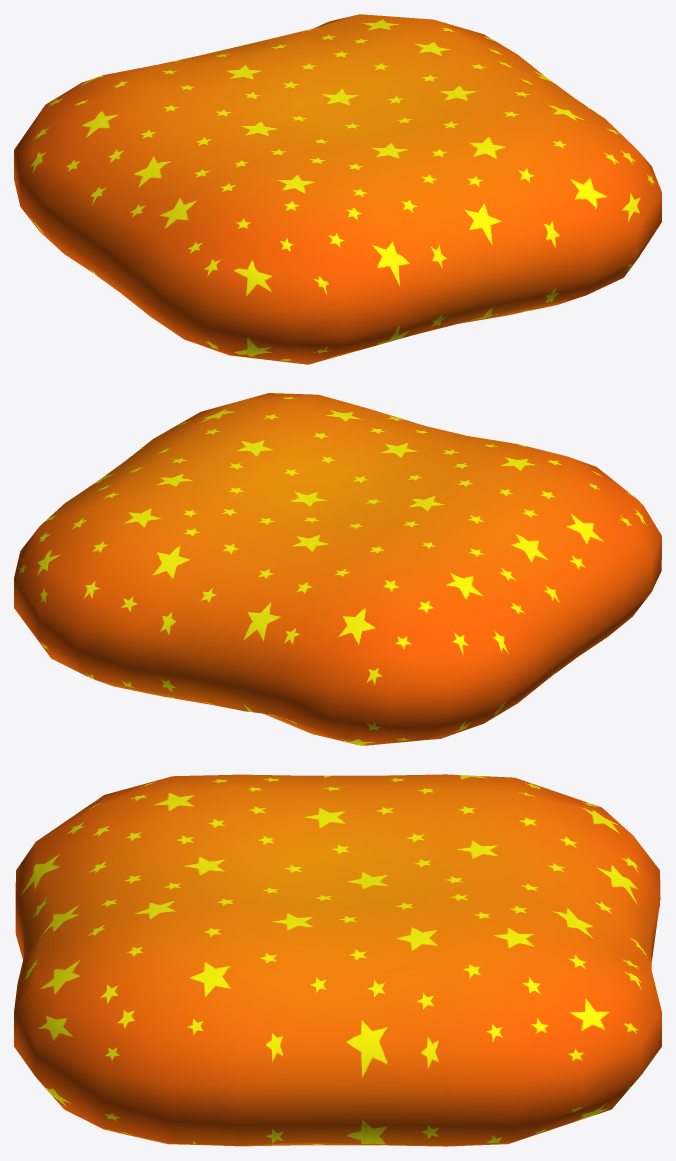
Rendered from FloorG.glb.
3 renders of one model, top to bottom at view 1: azimuth 30°, elevation 25°; view 2: azimuth 150°, elevation 25°; view 3: azimuth 270°, elevation 25°, orthographic. The views are drawn at different scales.
Parts seen in each view (by area): view 1: Mball.016; view 2: Mball.016; view 3: Mball.016.
Part boxes in pixels (x1=…): Mball.016: x1=14, y1=14, x2=661, y2=364; Mball.016: x1=14, y1=393, x2=661, y2=745; Mball.016: x1=14, y1=774, x2=661, y2=1146.
Bounding box in the file's own units: 29.71 × 9.83 × 29.11.
1 material, 1 textured.
